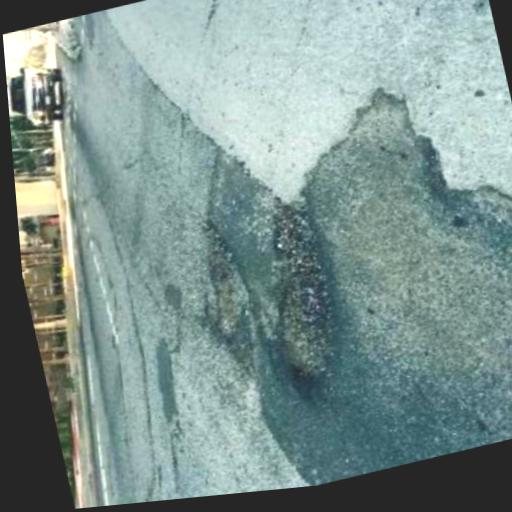pothole: (274, 197, 334, 377), (204, 217, 258, 373)
